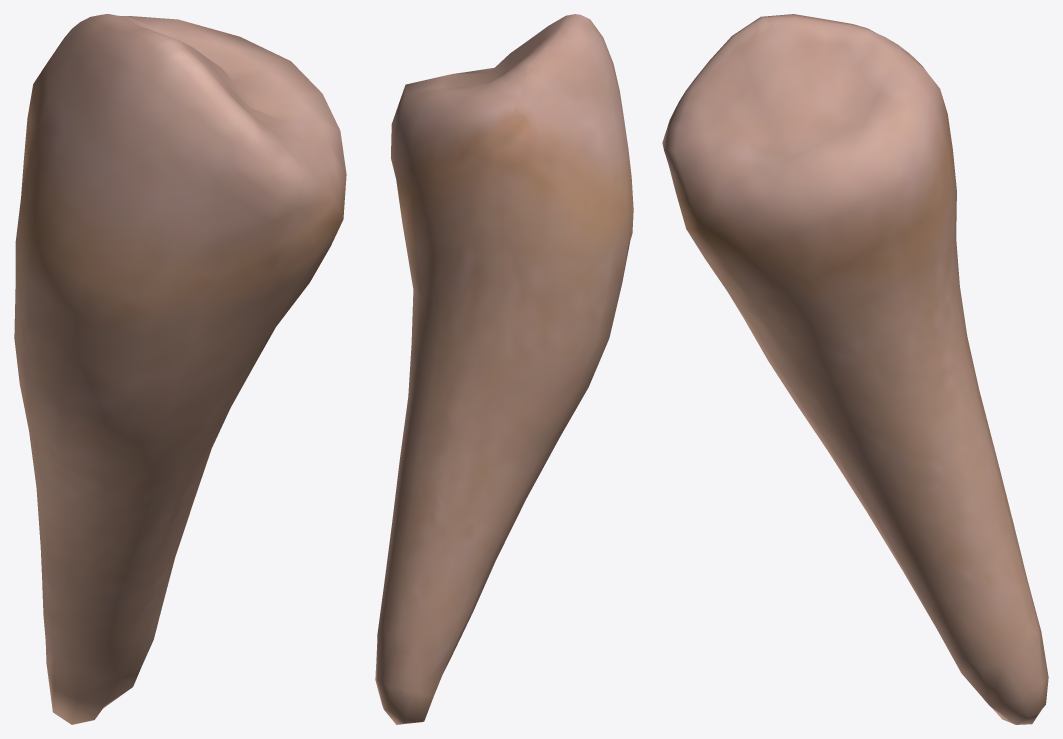
The picture shows the model from 3 angles, left to right: view 1: azimuth 30°, elevation 25°; view 2: azimuth 150°, elevation 25°; view 3: azimuth 270°, elevation 25°; orthographic projection. The views are drawn at different scales.
Visible parts, largest first — view 1: t_45; view 2: t_45; view 3: t_45.
Boxes of the visible parts, bbox=[...] form: t_45: bbox=[14, 14, 346, 724]; t_45: bbox=[375, 14, 633, 724]; t_45: bbox=[662, 14, 1048, 724].
Bounding box in the file's own units: 0.0717 × 0.1987 × 0.1026.
Materials: 1 (1 with a texture image).
